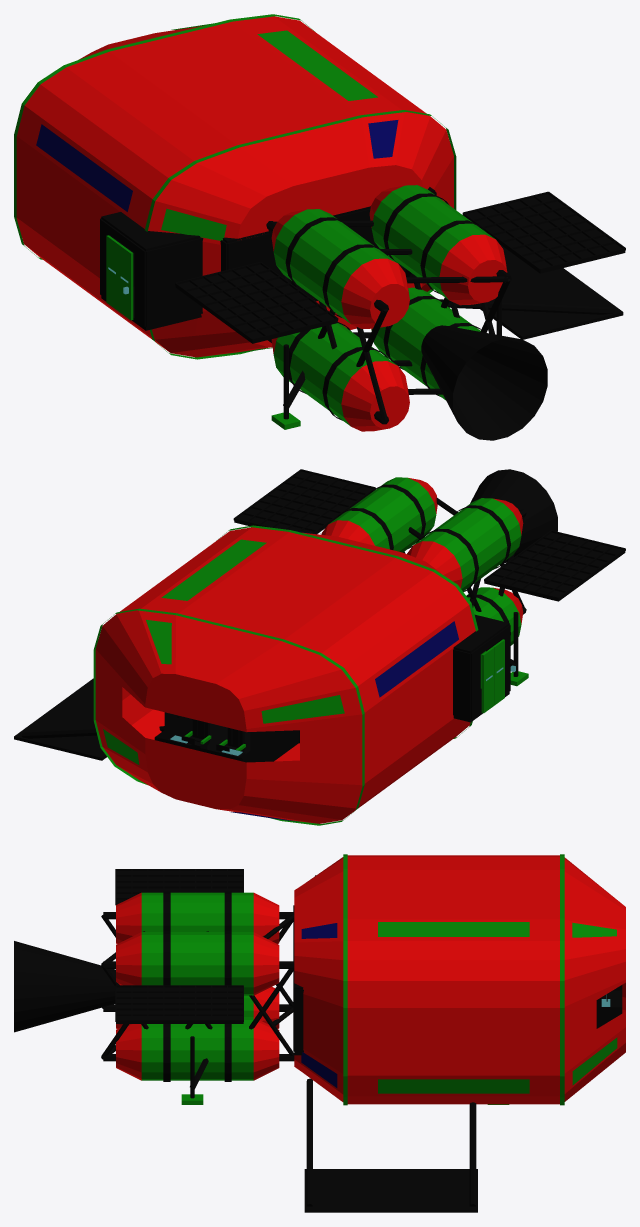
File: nomad.glb
3 renders of one model, top to bottom at view 1: azimuth 30°, elevation 25°; view 2: azimuth 150°, elevation 25°; view 3: azimuth 270°, elevation 25°, orthographic. The views are drawn at different scales.
Parts seen in each view (by area): view 1: pioneer_nomad:pressure_hull_0, pioneer_nomad:propellant, pioneer_nomad:engine_0, pioneer_nomad:inspection_panels_0, pioneer_nomad:rover_cradle, pioneer_nomad:room_eva, pioneer_nomad:radiator_1, pioneer_nomad:radiator_2, pioneer_nomad:radiator_cells_2, pioneer_nomad:radiator_cells_3, pioneer_nomad:load_spine, pioneer_nomad:tank_straps (+6 smaller); view 2: pioneer_nomad:pressure_hull_0, pioneer_nomad:propellant, pioneer_nomad:inspection_panels_0, pioneer_nomad:rover_cradle, pioneer_nomad:radiator_1, pioneer_nomad:engine_0, pioneer_nomad:radiator_2, pioneer_nomad:radiator_cells_2, pioneer_nomad:radiator_cells_3, pioneer_nomad:room_bridge, pioneer_nomad:habitat_seams_1, pioneer_nomad:room_eva (+7 smaller); view 3: pioneer_nomad:pressure_hull_0, pioneer_nomad:propellant, pioneer_nomad:rover_cradle, pioneer_nomad:inspection_panels_0, pioneer_nomad:engine_0, pioneer_nomad:radiator_2, pioneer_nomad:radiator_cells_3, pioneer_nomad:load_spine, pioneer_nomad:habitat_seams_1, pioneer_nomad:tank_straps, pioneer_nomad:radiator_1, pioneer_nomad:radiator_cells_2 (+3 smaller).
Part boxes in pixels (box(x1,y1,x2,y2)): pioneer_nomad:pressure_hull_0: box(16, 16, 453, 357); pioneer_nomad:propellant: box(271, 185, 507, 431); pioneer_nomad:engine_0: box(421, 325, 547, 440); pioneer_nomad:inspection_panels_0: box(36, 23, 398, 355); pioneer_nomad:rover_cradle: box(439, 244, 623, 339); pioneer_nomad:room_eva: box(100, 218, 203, 330); pioneer_nomad:radiator_1: box(175, 264, 337, 343); pioneer_nomad:radiator_2: box(466, 194, 625, 273); pioneer_nomad:radiator_cells_2: box(175, 262, 338, 341); pioneer_nomad:radiator_cells_3: box(462, 191, 625, 271); pioneer_nomad:load_spine: box(266, 220, 511, 424); pioneer_nomad:tank_straps: box(285, 193, 486, 420); pioneer_nomad:pressure_hull_0: box(95, 527, 475, 823); pioneer_nomad:propellant: box(321, 477, 523, 645); pioneer_nomad:inspection_panels_0: box(103, 531, 458, 821); pioneer_nomad:rover_cradle: box(14, 678, 164, 760); pioneer_nomad:radiator_1: box(484, 532, 625, 601); pioneer_nomad:engine_0: box(470, 469, 557, 562); pioneer_nomad:radiator_2: box(234, 471, 371, 534); pioneer_nomad:radiator_cells_2: box(484, 530, 625, 599); pioneer_nomad:radiator_cells_3: box(233, 469, 375, 533); pioneer_nomad:room_bridge: box(154, 712, 299, 762); pioneer_nomad:habitat_seams_1: box(93, 525, 478, 825); pioneer_nomad:room_eva: box(453, 624, 510, 722); pioneer_nomad:pressure_hull_0: box(294, 855, 625, 1104); pioneer_nomad:propellant: box(116, 892, 279, 1080); pioneer_nomad:rover_cradle: box(304, 1078, 477, 1212); pioneer_nomad:inspection_panels_0: box(301, 922, 617, 1093); pioneer_nomad:engine_0: box(14, 941, 115, 1032); pioneer_nomad:radiator_2: box(116, 987, 243, 1023); pioneer_nomad:radiator_cells_3: box(115, 985, 243, 1021); pioneer_nomad:load_spine: box(101, 912, 294, 1061); pioneer_nomad:habitat_seams_1: box(343, 854, 564, 1105); pioneer_nomad:tank_straps: box(163, 891, 231, 1081); pioneer_nomad:radiator_1: box(116, 871, 242, 903); pioneer_nomad:radiator_cells_2: box(115, 869, 243, 905).
Bounding box in the file's own units: 18.22 × 8.57 × 24.
